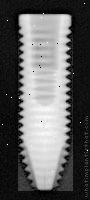Neodent: (18, 14, 73, 191)
